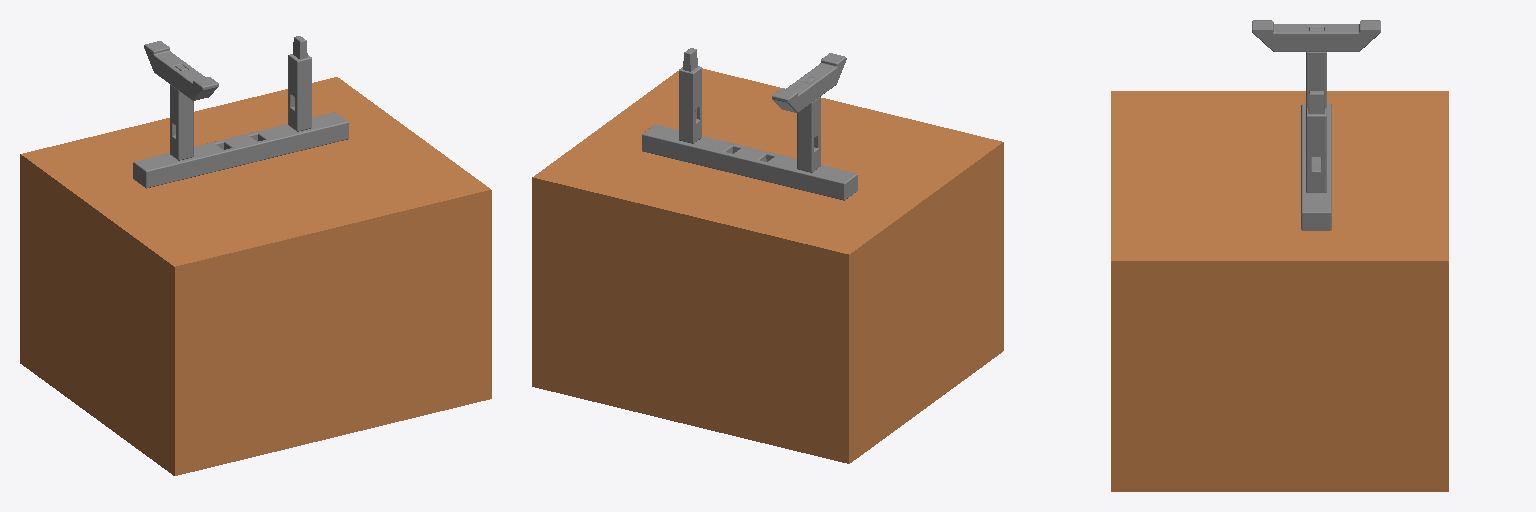
URDF robot description (table_beam_2x_1_scene_0036):
<?xml version="1.0"?>
<robot name="table_beam_2x_1_scene_0036">
  <link name="box">
    <visual>
      <material name="wood"><color rgba="0.82 0.56 0.35 1.0"/></material>
      <origin xyz="0 0 0"/>
      <geometry><box size="0.475 0.4 0.3"/></geometry>
    </visual>
    <collision>
      <origin xyz="0 0 0"/>
      <geometry><box size="0.475 0.4 0.3"/></geometry>
    </collision>
    <inertial>
      <mass value="500"/>
      <friction value="1.0"/>
      <inertia ixx="1000.0" ixy="0.0" ixz="0.0" iyy="1000.0" iyz="0.0" izz="1000.0"/>
    </inertial>
  </link>
  <link name="part_6_canonical">
    <visual>
      <origin xyz="0 0 0" rpy="0 0 0"/>
      <geometry><mesh filename="../../6/6_canonical.obj" scale="1 1 1"/></geometry>
      <material name="placed_0"><color rgba="0.6 0.6 0.6 1.0"/></material>
    </visual>
    <collision>
      <origin xyz="0 0 0" rpy="0 0 0"/>
      <geometry><mesh filename="../../6/6_canonical.obj" scale="1 1 1"/></geometry>
    </collision>
  </link>
  <joint name="part_6_canonical_joint" type="fixed">
    <parent link="box"/>
    <child link="part_6_canonical"/>
    <origin xyz="0.002381 0.043152 0.162666" rpy="0.000000 0.000000 0.000000"/>
  </joint>
  <link name="part_2_canonical">
    <visual>
      <origin xyz="0 0 0" rpy="0 0 0"/>
      <geometry><mesh filename="../../2/2_canonical.obj" scale="1 1 1"/></geometry>
      <material name="placed_1"><color rgba="0.6 0.6 0.6 1.0"/></material>
    </visual>
    <collision>
      <origin xyz="0 0 0" rpy="0 0 0"/>
      <geometry><mesh filename="../../2/2_canonical.obj" scale="1 1 1"/></geometry>
    </collision>
  </link>
  <joint name="part_2_canonical_joint" type="fixed">
    <parent link="box"/>
    <child link="part_2_canonical"/>
    <origin xyz="-0.086546 0.043152 0.225384" rpy="0.000000 -1.570796 0.000000"/>
  </joint>
  <link name="part_0_canonical">
    <visual>
      <origin xyz="0 0 0" rpy="0 0 0"/>
      <geometry><mesh filename="../../0/0_canonical.obj" scale="1 1 1"/></geometry>
      <material name="placed_2"><color rgba="0.6 0.6 0.6 1.0"/></material>
    </visual>
    <collision>
      <origin xyz="0 0 0" rpy="0 0 0"/>
      <geometry><mesh filename="../../0/0_canonical.obj" scale="1 1 1"/></geometry>
    </collision>
  </link>
  <joint name="part_0_canonical_joint" type="fixed">
    <parent link="box"/>
    <child link="part_0_canonical"/>
    <origin xyz="-0.086519 0.043152 0.292243" rpy="1.570796 0.000000 -1.570796"/>
  </joint>
  <link name="part_3_hull_0">
    <visual>
      <origin xyz="0 0 0" rpy="0 0 0"/>
      <geometry><mesh filename="../../3/coacd/decomp_0.obj" scale="1 1 1"/></geometry>
      <material name="placed_3"><color rgba="0.6 0.6 0.6 1.0"/></material>
    </visual>
    <collision>
      <origin xyz="0 0 0" rpy="0 0 0"/>
      <geometry><mesh filename="../../3/coacd/decomp_0.obj" scale="1 1 1"/></geometry>
    </collision>
  </link>
  <joint name="part_3_hull_0_joint" type="fixed">
    <parent link="box"/>
    <child link="part_3_hull_0"/>
    <origin xyz="0.091308 0.043152 0.225384" rpy="0.000000 -1.570796 0.000000"/>
  </joint>
  <link name="part_3_hull_1">
    <visual>
      <origin xyz="0 0 0" rpy="0 0 0"/>
      <geometry><mesh filename="../../3/coacd/decomp_1.obj" scale="1 1 1"/></geometry>
      <material name="placed_4"><color rgba="0.6 0.6 0.6 1.0"/></material>
    </visual>
    <collision>
      <origin xyz="0 0 0" rpy="0 0 0"/>
      <geometry><mesh filename="../../3/coacd/decomp_1.obj" scale="1 1 1"/></geometry>
    </collision>
  </link>
  <joint name="part_3_hull_1_joint" type="fixed">
    <parent link="box"/>
    <child link="part_3_hull_1"/>
    <origin xyz="0.091308 0.043152 0.225384" rpy="0.000000 -1.570796 0.000000"/>
  </joint>
  <link name="part_3_hull_2">
    <visual>
      <origin xyz="0 0 0" rpy="0 0 0"/>
      <geometry><mesh filename="../../3/coacd/decomp_10.obj" scale="1 1 1"/></geometry>
      <material name="placed_5"><color rgba="0.6 0.6 0.6 1.0"/></material>
    </visual>
    <collision>
      <origin xyz="0 0 0" rpy="0 0 0"/>
      <geometry><mesh filename="../../3/coacd/decomp_10.obj" scale="1 1 1"/></geometry>
    </collision>
  </link>
  <joint name="part_3_hull_2_joint" type="fixed">
    <parent link="box"/>
    <child link="part_3_hull_2"/>
    <origin xyz="0.091308 0.043152 0.225384" rpy="0.000000 -1.570796 0.000000"/>
  </joint>
  <link name="part_3_hull_3">
    <visual>
      <origin xyz="0 0 0" rpy="0 0 0"/>
      <geometry><mesh filename="../../3/coacd/decomp_11.obj" scale="1 1 1"/></geometry>
      <material name="placed_6"><color rgba="0.6 0.6 0.6 1.0"/></material>
    </visual>
    <collision>
      <origin xyz="0 0 0" rpy="0 0 0"/>
      <geometry><mesh filename="../../3/coacd/decomp_11.obj" scale="1 1 1"/></geometry>
    </collision>
  </link>
  <joint name="part_3_hull_3_joint" type="fixed">
    <parent link="box"/>
    <child link="part_3_hull_3"/>
    <origin xyz="0.091308 0.043152 0.225384" rpy="0.000000 -1.570796 0.000000"/>
  </joint>
  <link name="part_3_hull_4">
    <visual>
      <origin xyz="0 0 0" rpy="0 0 0"/>
      <geometry><mesh filename="../../3/coacd/decomp_12.obj" scale="1 1 1"/></geometry>
      <material name="placed_7"><color rgba="0.6 0.6 0.6 1.0"/></material>
    </visual>
    <collision>
      <origin xyz="0 0 0" rpy="0 0 0"/>
      <geometry><mesh filename="../../3/coacd/decomp_12.obj" scale="1 1 1"/></geometry>
    </collision>
  </link>
  <joint name="part_3_hull_4_joint" type="fixed">
    <parent link="box"/>
    <child link="part_3_hull_4"/>
    <origin xyz="0.091308 0.043152 0.225384" rpy="0.000000 -1.570796 0.000000"/>
  </joint>
  <link name="part_3_hull_5">
    <visual>
      <origin xyz="0 0 0" rpy="0 0 0"/>
      <geometry><mesh filename="../../3/coacd/decomp_2.obj" scale="1 1 1"/></geometry>
      <material name="placed_8"><color rgba="0.6 0.6 0.6 1.0"/></material>
    </visual>
    <collision>
      <origin xyz="0 0 0" rpy="0 0 0"/>
      <geometry><mesh filename="../../3/coacd/decomp_2.obj" scale="1 1 1"/></geometry>
    </collision>
  </link>
  <joint name="part_3_hull_5_joint" type="fixed">
    <parent link="box"/>
    <child link="part_3_hull_5"/>
    <origin xyz="0.091308 0.043152 0.225384" rpy="0.000000 -1.570796 0.000000"/>
  </joint>
  <link name="part_3_hull_6">
    <visual>
      <origin xyz="0 0 0" rpy="0 0 0"/>
      <geometry><mesh filename="../../3/coacd/decomp_3.obj" scale="1 1 1"/></geometry>
      <material name="placed_9"><color rgba="0.6 0.6 0.6 1.0"/></material>
    </visual>
    <collision>
      <origin xyz="0 0 0" rpy="0 0 0"/>
      <geometry><mesh filename="../../3/coacd/decomp_3.obj" scale="1 1 1"/></geometry>
    </collision>
  </link>
  <joint name="part_3_hull_6_joint" type="fixed">
    <parent link="box"/>
    <child link="part_3_hull_6"/>
    <origin xyz="0.091308 0.043152 0.225384" rpy="0.000000 -1.570796 0.000000"/>
  </joint>
  <link name="part_3_hull_7">
    <visual>
      <origin xyz="0 0 0" rpy="0 0 0"/>
      <geometry><mesh filename="../../3/coacd/decomp_4.obj" scale="1 1 1"/></geometry>
      <material name="placed_10"><color rgba="0.6 0.6 0.6 1.0"/></material>
    </visual>
    <collision>
      <origin xyz="0 0 0" rpy="0 0 0"/>
      <geometry><mesh filename="../../3/coacd/decomp_4.obj" scale="1 1 1"/></geometry>
    </collision>
  </link>
  <joint name="part_3_hull_7_joint" type="fixed">
    <parent link="box"/>
    <child link="part_3_hull_7"/>
    <origin xyz="0.091308 0.043152 0.225384" rpy="0.000000 -1.570796 0.000000"/>
  </joint>
  <link name="part_3_hull_8">
    <visual>
      <origin xyz="0 0 0" rpy="0 0 0"/>
      <geometry><mesh filename="../../3/coacd/decomp_5.obj" scale="1 1 1"/></geometry>
      <material name="placed_11"><color rgba="0.6 0.6 0.6 1.0"/></material>
    </visual>
    <collision>
      <origin xyz="0 0 0" rpy="0 0 0"/>
      <geometry><mesh filename="../../3/coacd/decomp_5.obj" scale="1 1 1"/></geometry>
    </collision>
  </link>
  <joint name="part_3_hull_8_joint" type="fixed">
    <parent link="box"/>
    <child link="part_3_hull_8"/>
    <origin xyz="0.091308 0.043152 0.225384" rpy="0.000000 -1.570796 0.000000"/>
  </joint>
  <link name="part_3_hull_9">
    <visual>
      <origin xyz="0 0 0" rpy="0 0 0"/>
      <geometry><mesh filename="../../3/coacd/decomp_6.obj" scale="1 1 1"/></geometry>
      <material name="placed_12"><color rgba="0.6 0.6 0.6 1.0"/></material>
    </visual>
    <collision>
      <origin xyz="0 0 0" rpy="0 0 0"/>
      <geometry><mesh filename="../../3/coacd/decomp_6.obj" scale="1 1 1"/></geometry>
    </collision>
  </link>
  <joint name="part_3_hull_9_joint" type="fixed">
    <parent link="box"/>
    <child link="part_3_hull_9"/>
    <origin xyz="0.091308 0.043152 0.225384" rpy="0.000000 -1.570796 0.000000"/>
  </joint>
  <link name="part_3_hull_10">
    <visual>
      <origin xyz="0 0 0" rpy="0 0 0"/>
      <geometry><mesh filename="../../3/coacd/decomp_7.obj" scale="1 1 1"/></geometry>
      <material name="placed_13"><color rgba="0.6 0.6 0.6 1.0"/></material>
    </visual>
    <collision>
      <origin xyz="0 0 0" rpy="0 0 0"/>
      <geometry><mesh filename="../../3/coacd/decomp_7.obj" scale="1 1 1"/></geometry>
    </collision>
  </link>
  <joint name="part_3_hull_10_joint" type="fixed">
    <parent link="box"/>
    <child link="part_3_hull_10"/>
    <origin xyz="0.091308 0.043152 0.225384" rpy="0.000000 -1.570796 0.000000"/>
  </joint>
  <link name="part_3_hull_11">
    <visual>
      <origin xyz="0 0 0" rpy="0 0 0"/>
      <geometry><mesh filename="../../3/coacd/decomp_8.obj" scale="1 1 1"/></geometry>
      <material name="placed_14"><color rgba="0.6 0.6 0.6 1.0"/></material>
    </visual>
    <collision>
      <origin xyz="0 0 0" rpy="0 0 0"/>
      <geometry><mesh filename="../../3/coacd/decomp_8.obj" scale="1 1 1"/></geometry>
    </collision>
  </link>
  <joint name="part_3_hull_11_joint" type="fixed">
    <parent link="box"/>
    <child link="part_3_hull_11"/>
    <origin xyz="0.091308 0.043152 0.225384" rpy="0.000000 -1.570796 0.000000"/>
  </joint>
  <link name="part_3_hull_12">
    <visual>
      <origin xyz="0 0 0" rpy="0 0 0"/>
      <geometry><mesh filename="../../3/coacd/decomp_9.obj" scale="1 1 1"/></geometry>
      <material name="placed_15"><color rgba="0.6 0.6 0.6 1.0"/></material>
    </visual>
    <collision>
      <origin xyz="0 0 0" rpy="0 0 0"/>
      <geometry><mesh filename="../../3/coacd/decomp_9.obj" scale="1 1 1"/></geometry>
    </collision>
  </link>
  <joint name="part_3_hull_12_joint" type="fixed">
    <parent link="box"/>
    <child link="part_3_hull_12"/>
    <origin xyz="0.091308 0.043152 0.225384" rpy="0.000000 -1.570796 0.000000"/>
  </joint>
</robot>

--- Facts derived from the render (not from the file) ---
Views: 3 orthographic renders of the robot side by side, from view 1: azimuth 30°, elevation 25°; view 2: azimuth 150°, elevation 25°; view 3: azimuth 270°, elevation 25°.
Robot: table_beam_2x_1_scene_0036 — 17 links, 16 joints (16 fixed); root link box; default pose: every joint at zero.
Links seen in each view (by area): view 1: box, part_6_canonical, part_0_canonical, part_2_canonical, part_3_hull_7; view 2: box, part_6_canonical, part_0_canonical, part_2_canonical, part_3_hull_11; view 3: box, part_0_canonical, part_6_canonical, part_2_canonical, part_3_hull_0.
Boxes of the visible links, left/top/right/bottom form: box: left=20, top=77, right=491, bottom=475; part_6_canonical: left=133, top=112, right=348, bottom=188; part_0_canonical: left=144, top=41, right=218, bottom=100; part_2_canonical: left=170, top=65, right=193, bottom=160; part_3_hull_7: left=301, top=58, right=308, bottom=130; box: left=532, top=68, right=1003, bottom=463; part_6_canonical: left=642, top=124, right=857, bottom=200; part_0_canonical: left=772, top=53, right=846, bottom=112; part_2_canonical: left=797, top=77, right=820, bottom=172; part_3_hull_11: left=682, top=70, right=689, bottom=142; box: left=1111, top=91, right=1448, bottom=491; part_0_canonical: left=1252, top=20, right=1380, bottom=51; part_6_canonical: left=1301, top=104, right=1331, bottom=230; part_2_canonical: left=1306, top=27, right=1326, bottom=108; part_3_hull_0: left=1306, top=114, right=1326, bottom=156.
Size in the robot's own frame: 0.475 by 0.4 by 0.4575 metres.
16 mesh visuals loaded from 16 distinct referenced files (16 OBJ).
